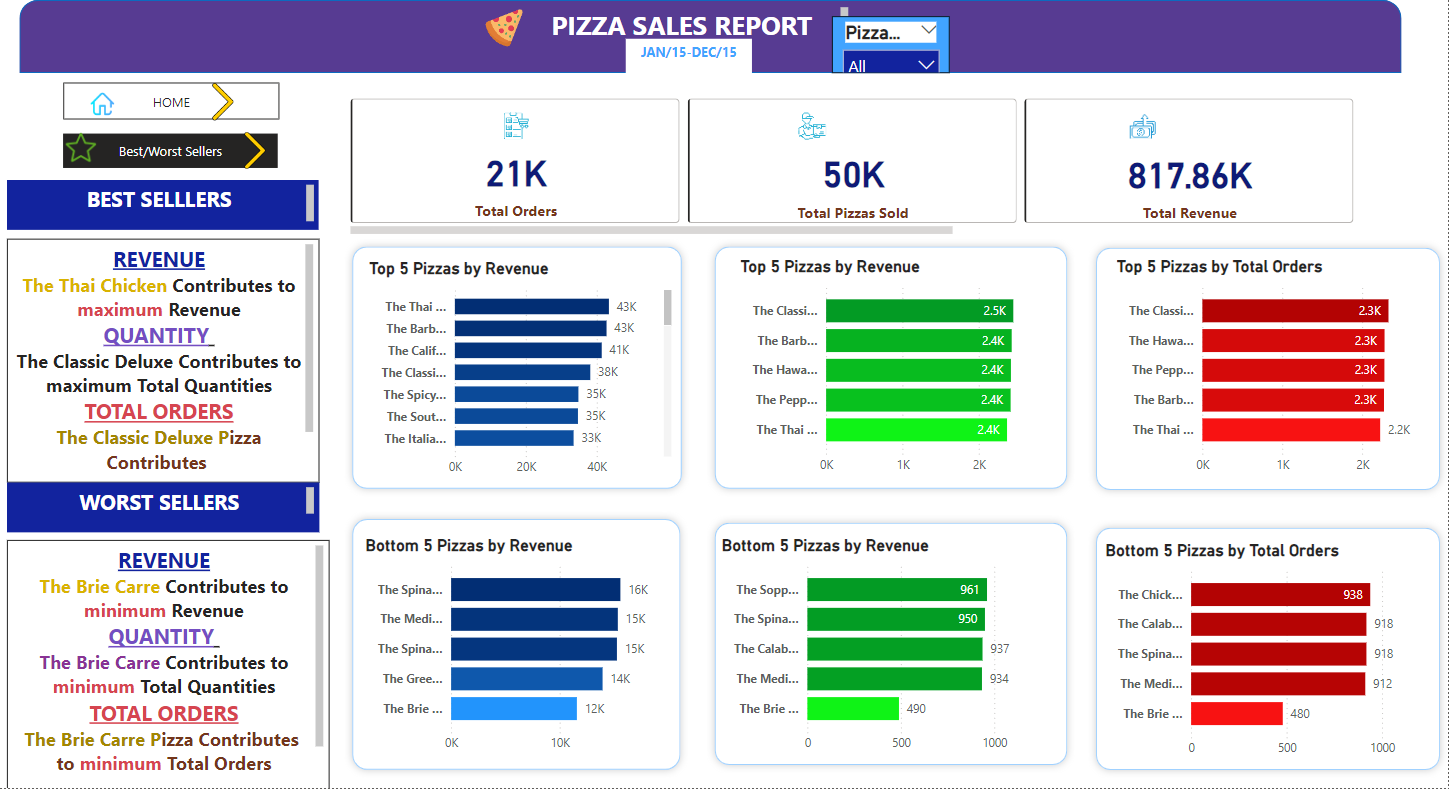

This screenshot's page, from the dashboard's own definition file:
{"tool":"powerbi","page":{"name":"Best/Worst Sellers","canvas":[1500,820],"ordinal":1},"visuals":[{"type":"cardVisual","fields":{"Data":["pizza_sales.Total Orders","pizza_sales.Total Pizzas Sold","pizza_sales.Total Revenue","pizza_sales.Avg Order Value","pizza_sales.Avg Pizzas Per Order"]},"box":[368.2,106.1,1042,151.2],"z":0},{"type":"shape","box":[33.8,10.3,1419.1,75],"z":1000},{"type":"textbox","box":[553.3,13.3,336,56],"z":2000},{"type":"textbox","box":[655.9,50.1,129.5,34.8],"z":3000},{"type":"image","box":[426.2,13.9,210.3,50.1],"z":4000},{"type":"shape","box":[367.6,255.9,354.4,264.7],"z":5000},{"type":"shape","box":[367.6,535.3,352.9,273.5],"z":6000},{"type":"textbox","box":[20.9,195,320.3,51.5],"z":7000},{"type":"textbox","box":[21,581,320,228],"z":8000},{"type":"textbox","box":[20.6,255.9,320.6,250],"z":9000},{"type":"textbox","box":[20.6,505.9,320.6,51.5],"z":10000},{"type":"textbox","box":[20.6,564.7,330.9,255.9],"z":11000},{"type":"slicer","title":"Pizza_Category","fields":{"Values":["pizza_sales.pizza_category"]},"box":[867.6,26.5,121.2,58.5],"z":12000},{"type":"shape","box":[739.7,255.9,377.9,264.7],"z":13000},{"type":"shape","box":[1130.9,544.1,369.1,264.7],"z":14000},{"type":"shape","box":[1130.9,257.4,369.1,264.7],"z":15000},{"type":"shape","box":[739.7,539.7,377.9,264.7],"z":16000},{"type":"barChart","title":"Top 5 Pizzas by Revenue ","fields":{"Category":["pizza_sales.pizza_name"],"Y":["pizza_sales.Total Revenue"]},"box":[388.2,276.5,320.6,232.4],"z":17000},{"type":"barChart","title":"Bottom 5 Pizzas by Revenue ","fields":{"Category":["pizza_sales.pizza_name"],"Y":["pizza_sales.Total Revenue"]},"box":[383.8,560.3,320.6,232.4],"z":18000},{"type":"barChart","title":"Top 5 Pizzas by Revenue ","fields":{"Category":["pizza_sales.pizza_name"],"Y":["pizza_sales.Total Pizzas Sold"]},"box":[769.1,273.5,320.6,232.4],"z":19000},{"type":"barChart","title":"Bottom 5 Pizzas by Revenue ","fields":{"Category":["pizza_sales.pizza_name"],"Y":["pizza_sales.Total Pizzas Sold"]},"box":[750,560.3,320.6,232.4],"z":20000},{"type":"barChart","title":"Top 5 Pizzas by Total Orders ","fields":{"Category":["pizza_sales.pizza_name"],"Y":["pizza_sales.Total Orders"]},"box":[1155.9,273.5,320.6,232.4],"z":20001},{"type":"barChart","title":"Bottom 5 Pizzas by Total Orders","fields":{"Category":["pizza_sales.pizza_name"],"Y":["pizza_sales.Total Orders"]},"box":[1144.1,564.7,320.6,232.4],"z":20002},{"type":"pageNavigator","box":[77.9,95.6,222.1,38.2],"z":20003},{"type":"pageNavigator","box":[77.9,147.1,220.6,35.3],"z":20004},{"type":"image","box":[217.6,60.3,48.5,108.8],"z":20005},{"type":"image","box":[251.5,141.2,47.1,47.1],"z":20006},{"type":"image","box":[100,100,36.8,33.8],"z":20007},{"type":"image","box":[75,141.2,44.1,41.2],"z":20008}]}

Visuals, with their boxes in screenshot pixels (x1, y1, x2, y2), scaled from the page's 1500x820 canvas onto the 1449x789 screenshot:
cardVisual - pizza_sales.Total Orders x pizza_sales.Total Pizzas Sold: bbox=(356, 102, 1362, 248)
shape: bbox=(33, 10, 1404, 82)
textbox: bbox=(534, 13, 859, 67)
textbox: bbox=(634, 48, 759, 82)
image: bbox=(412, 13, 615, 62)
shape: bbox=(355, 246, 697, 501)
shape: bbox=(355, 515, 696, 778)
textbox: bbox=(20, 188, 330, 237)
textbox: bbox=(20, 559, 329, 778)
textbox: bbox=(20, 246, 330, 487)
textbox: bbox=(20, 487, 330, 536)
textbox: bbox=(20, 543, 340, 788)
"Pizza_Category" slicer: bbox=(838, 25, 955, 82)
shape: bbox=(715, 246, 1080, 501)
shape: bbox=(1092, 524, 1448, 778)
shape: bbox=(1092, 248, 1448, 502)
shape: bbox=(715, 519, 1080, 774)
"Top 5 Pizzas by Revenue " barChart: bbox=(375, 266, 685, 490)
"Bottom 5 Pizzas by Revenue " barChart: bbox=(371, 539, 680, 763)
"Top 5 Pizzas by Revenue " barChart: bbox=(743, 263, 1053, 487)
"Bottom 5 Pizzas by Revenue " barChart: bbox=(724, 539, 1034, 763)
"Top 5 Pizzas by Total Orders " barChart: bbox=(1117, 263, 1426, 487)
"Bottom 5 Pizzas by Total Orders" barChart: bbox=(1105, 543, 1415, 767)
pageNavigator: bbox=(75, 92, 290, 129)
pageNavigator: bbox=(75, 142, 288, 176)
image: bbox=(210, 58, 257, 163)
image: bbox=(243, 136, 288, 181)
image: bbox=(97, 96, 132, 129)
image: bbox=(72, 136, 115, 176)
